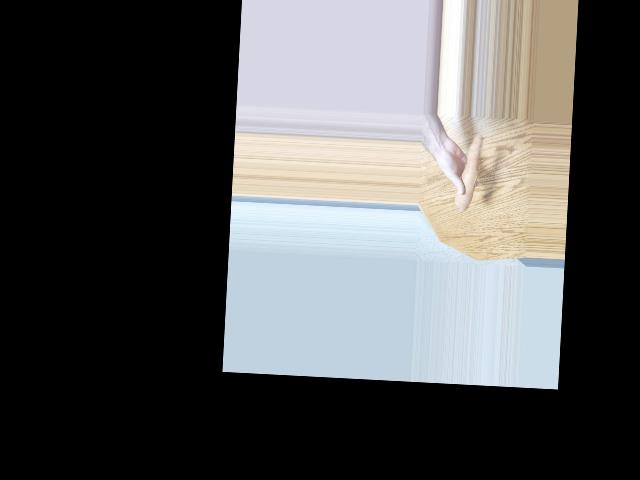sweet_potato: (461, 134, 479, 210)
